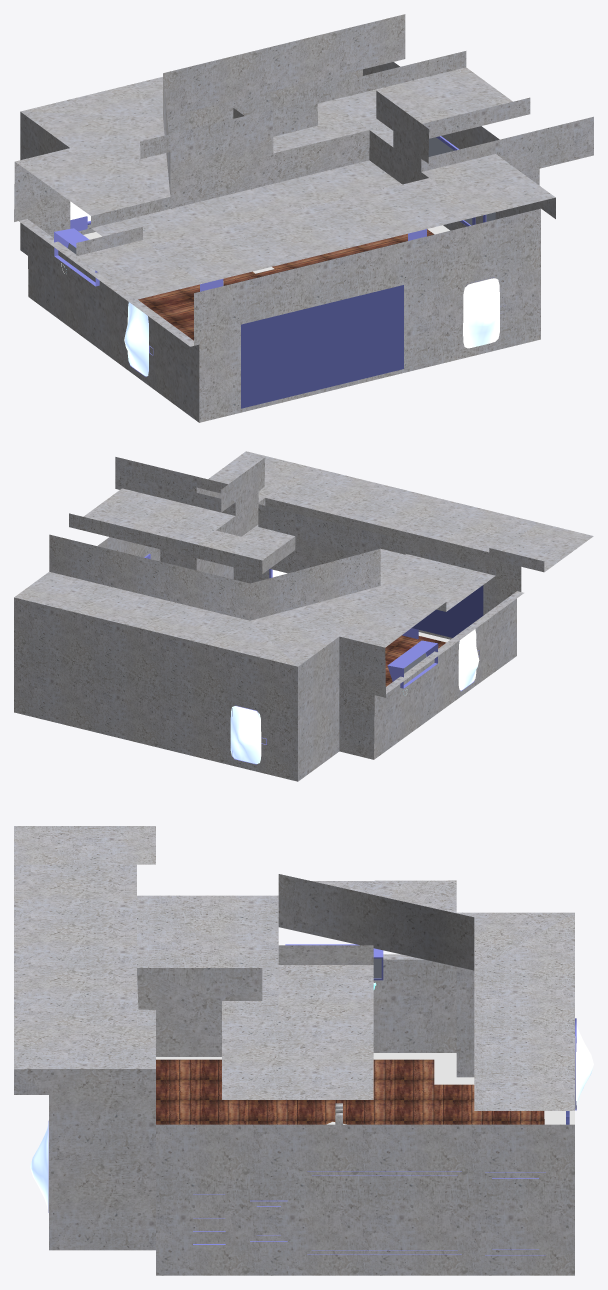
Rendered from hall.glb.
3 renders of one model, top to bottom at view 1: azimuth 30°, elevation 25°; view 2: azimuth 150°, elevation 25°; view 3: azimuth 270°, elevation 25°, orthographic. The views are drawn at different scales.
Parts seen in each view (by area): view 1: hall, graffiti, teleport, doorA, doorB; view 2: hall, graffiti, doorC, doorB, teleport; view 3: hall, teleport, doorA, doorC.
Boxes of the visible parts, x1,y1,x2,y2 form: hall: (14, 14, 593, 422); graffiti: (241, 285, 403, 408); teleport: (138, 229, 434, 340); doorA: (463, 278, 499, 348); doorB: (124, 302, 148, 376); hall: (14, 451, 593, 781); graffiti: (412, 585, 483, 637); doorC: (230, 706, 261, 763); doorB: (458, 629, 479, 690); teleport: (385, 635, 446, 686); hall: (14, 826, 576, 1275); teleport: (156, 1059, 544, 1124); doorA: (30, 1123, 48, 1211); doorC: (575, 1025, 593, 1109).
Bounding box in the file's own units: 18.78 × 6.99 × 15.36.
Materials: 10 (2 with a texture image).
